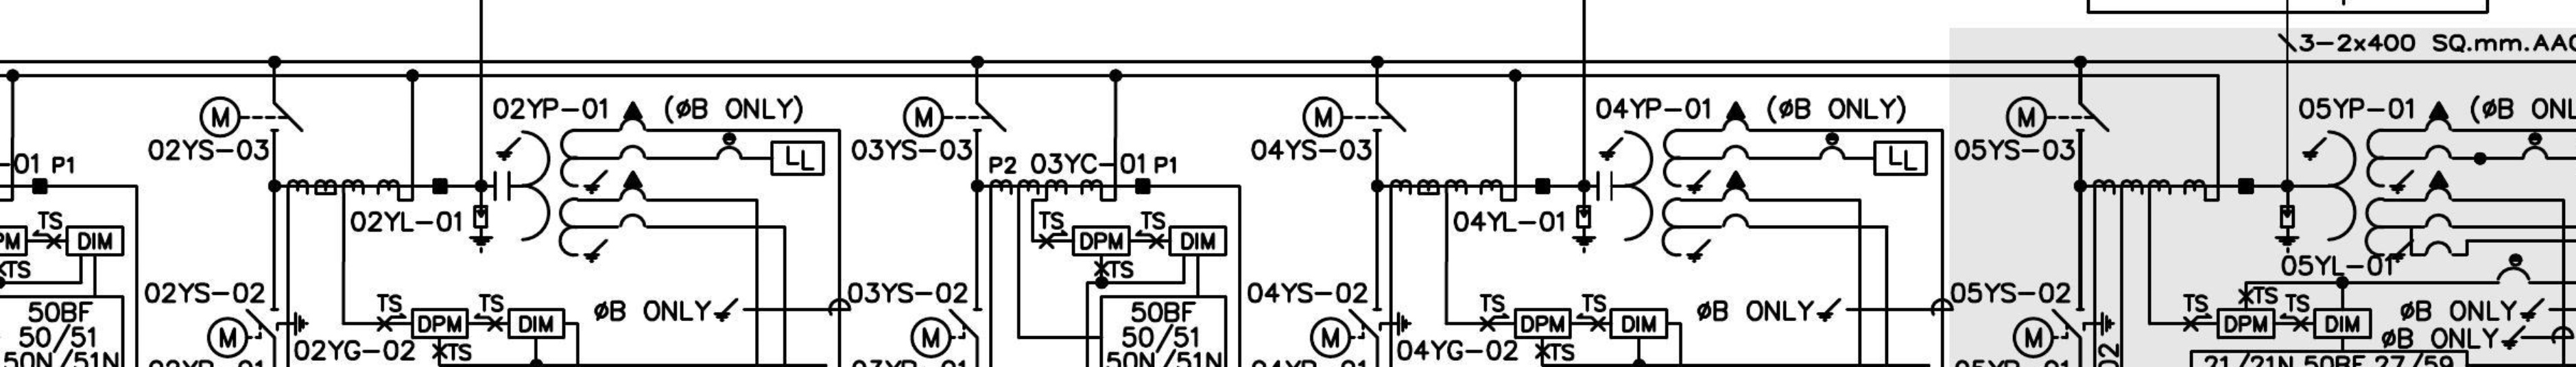115_1way_ds_w_motor: (1301, 95, 1408, 138), (2004, 95, 2111, 138), (199, 95, 304, 138), (902, 95, 1007, 138), (908, 308, 982, 360)
115_3ways_ds_w_motor: (1309, 308, 1413, 360), (2012, 308, 2116, 360), (205, 308, 310, 359)
115_cvt_1p: (493, 100, 649, 265), (1595, 100, 1751, 265)
115_la: (1571, 204, 1597, 255), (468, 204, 494, 253), (2274, 206, 2300, 255)
115_vt_1p: (2302, 100, 2454, 263)
DIM: (1168, 224, 1227, 257), (2313, 308, 2372, 341), (66, 225, 125, 257), (508, 308, 565, 339), (1610, 308, 1667, 339)
DPM: (1071, 224, 1132, 257), (411, 308, 470, 339), (1513, 308, 1572, 339), (2216, 308, 2275, 339)
LL: (1873, 140, 1929, 176), (770, 140, 825, 176)
